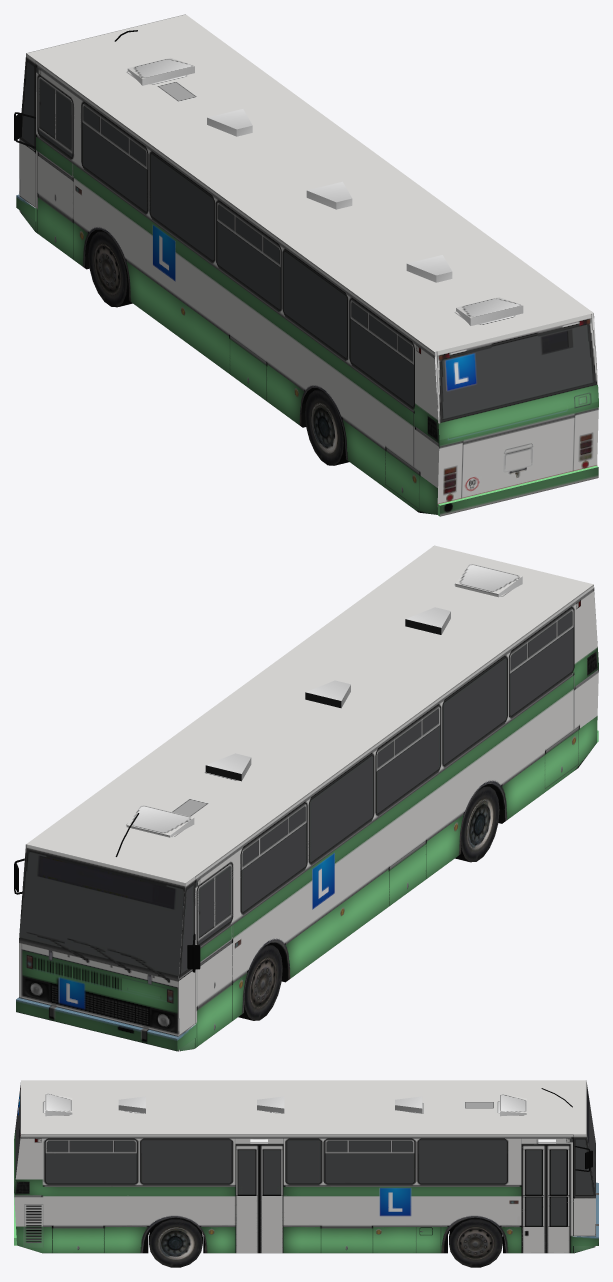
The model's file is karosab732lka.obj.
The picture shows the model from 3 angles, top to bottom: view 1: azimuth 30°, elevation 25°; view 2: azimuth 150°, elevation 25°; view 3: azimuth 270°, elevation 25°; orthographic projection. The views are drawn at different scales.
Parts seen in each view (by area): view 1: Box009, Cylinder003, Cylinder004; view 2: Box009, Cylinder004, Cylinder003; view 3: Box009, Cylinder005, Cylinder002.
Part boxes in pixels (bbox=[...]): Box009: bbox=[14, 14, 598, 516]; Cylinder003: bbox=[88, 230, 132, 307]; Cylinder004: bbox=[305, 389, 348, 465]; Box009: bbox=[14, 545, 598, 1051]; Cylinder004: bbox=[455, 785, 499, 862]; Cylinder003: bbox=[238, 944, 282, 1020]; Box009: bbox=[14, 1080, 598, 1253]; Cylinder005: bbox=[149, 1217, 202, 1267]; Cylinder002: bbox=[449, 1217, 502, 1267].
Bounding box in the file's own units: 3.18 × 3.65 × 12.64.
